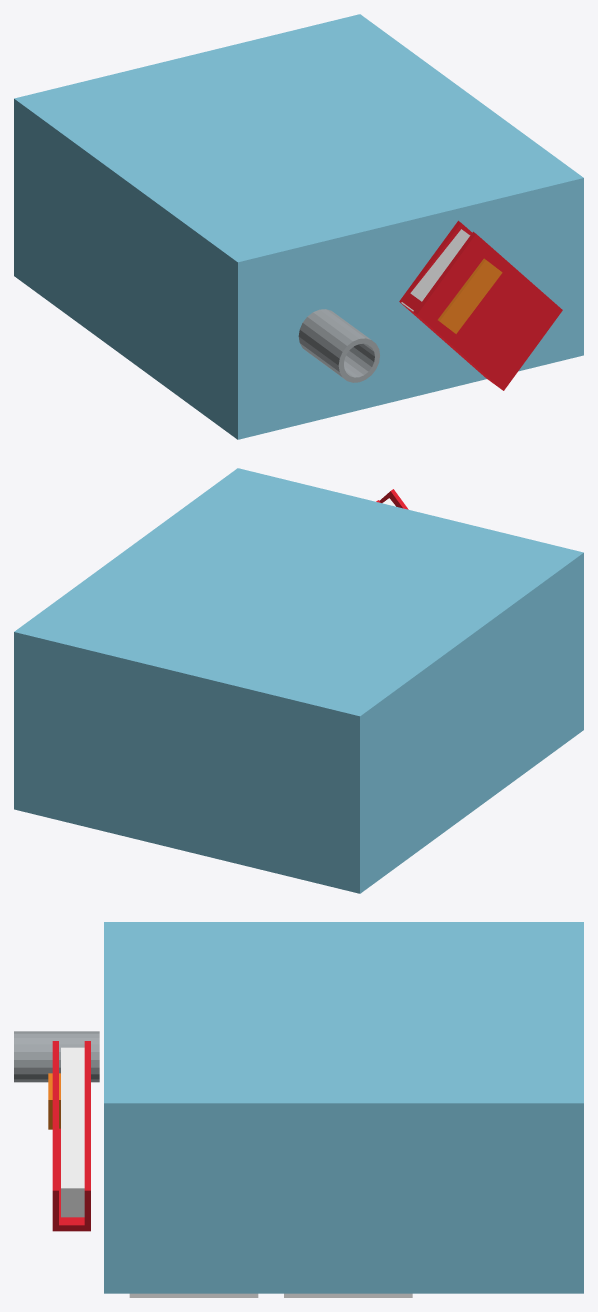
File: tinker.obj
The picture shows the model from 3 angles, top to bottom: view 1: azimuth 30°, elevation 25°; view 2: azimuth 150°, elevation 25°; view 3: azimuth 270°, elevation 25°; orthographic projection. The views are drawn at different scales.
Visible parts, largest first — view 1: group_0_8768998, group_0_15277357, group_0_10988977, group_0_16089887, group_0_16448250; view 2: group_0_8768998; view 3: group_0_8768998, group_0_16448250, group_0_15277357, group_0_10988977.
Part boxes in pixels (left/top/right/bottom): group_0_8768998: left=14, top=14, right=583, bottom=439; group_0_15277357: left=399, top=220, right=562, bottom=390; group_0_10988977: left=298, top=309, right=379, bottom=382; group_0_16089887: left=438, top=258, right=502, bottom=333; group_0_16448250: left=401, top=229, right=470, bottom=311; group_0_8768998: left=14, top=468, right=583, bottom=893; group_0_8768998: left=104, top=922, right=583, bottom=1293; group_0_16448250: left=61, top=1047, right=412, bottom=1297; group_0_15277357: left=52, top=1041, right=90, bottom=1231; group_0_10988977: left=14, top=1031, right=99, bottom=1082.
Size of the model in its own units: 100 by 56 by 133.
